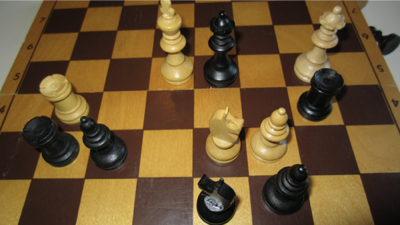black-bishop: (80, 116, 129, 171), (262, 164, 311, 217)
black-knight: (196, 174, 238, 225)
black-queen: (204, 10, 240, 88)
black-rook: (22, 116, 81, 168), (297, 68, 346, 122)
white-bishop: (250, 107, 291, 164)
white-king: (157, 1, 195, 87)
white-knight: (205, 107, 245, 165)
white-queen: (294, 6, 347, 86)
white-rook: (39, 74, 90, 125)
